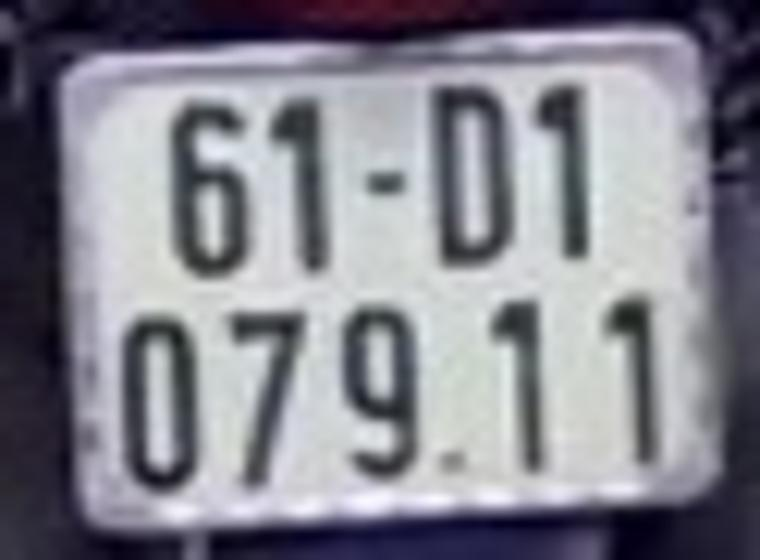-: (369, 167, 415, 205)
.: (443, 446, 467, 470)
0: (108, 308, 197, 494)
1: (272, 86, 336, 292), (596, 296, 666, 467), (490, 288, 555, 470), (539, 82, 602, 269)
6: (163, 91, 256, 280)
7: (221, 298, 308, 487)
9: (340, 302, 415, 475)
D: (432, 85, 526, 274)
